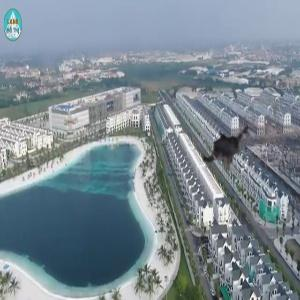drone: (188, 111, 262, 185)
